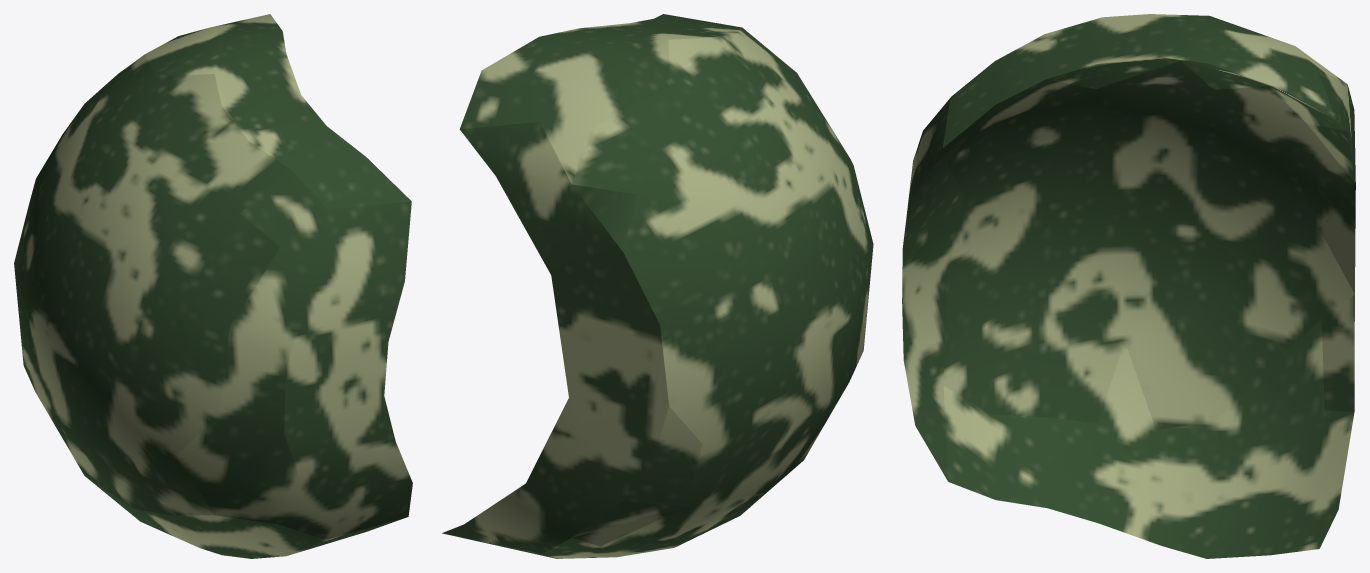
Rendered from link_body_09_composite.obj.
3 renders of one model, left to right at view 1: azimuth 30°, elevation 25°; view 2: azimuth 150°, elevation 25°; view 3: azimuth 270°, elevation 25°, orthographic. The views are drawn at different scales.
Parts seen in each view (by area): view 1: link_body_09; view 2: link_body_09; view 3: link_body_09.
Part boxes in pixels (x1,y1,x2,y2): link_body_09: (14,14,412,558); link_body_09: (442,14,873,558); link_body_09: (902,14,1355,558).
Bounding box in the file's own units: 9.82 × 15.29 × 12.38.
1 material, 1 textured.
